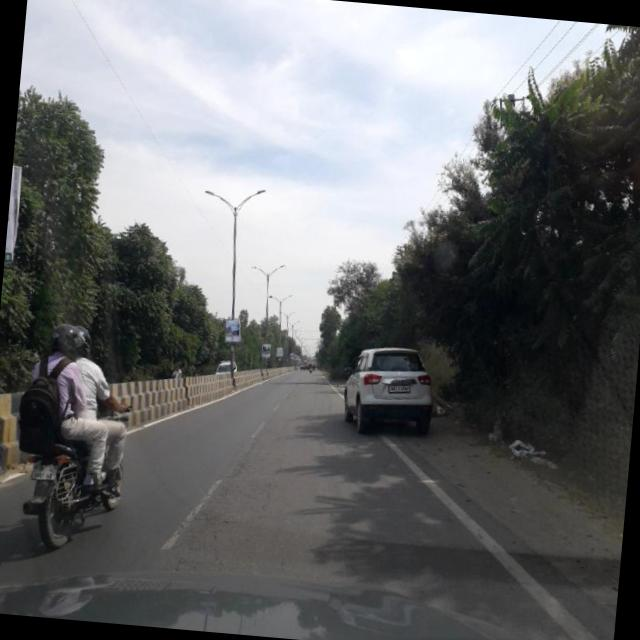crack: (167, 411, 286, 572)
